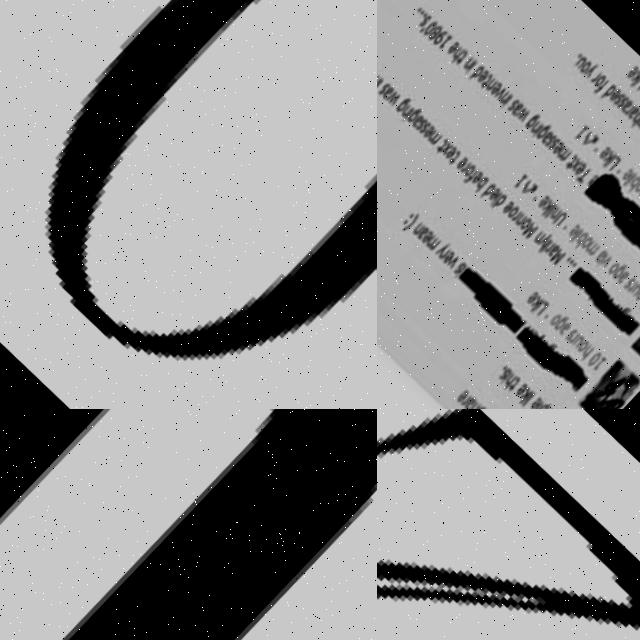0: (0, 0, 377, 409)
2: (377, 409, 640, 640)
4: (425, 31, 443, 49)
5: (430, 36, 448, 54)
U: (0, 409, 377, 640)
